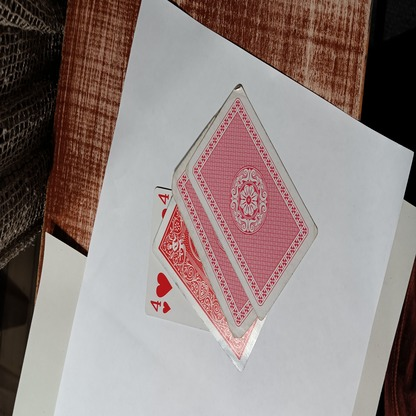4h: (149, 297, 173, 314)
